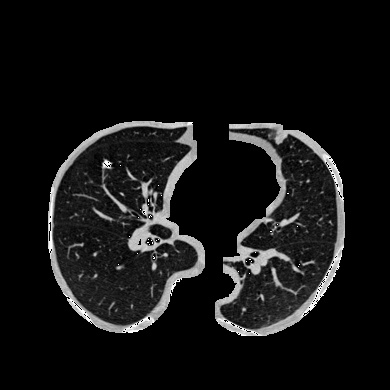PN: (103, 160, 111, 168)
